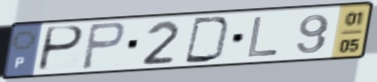2: (140, 19, 181, 67)
9: (294, 12, 332, 55)
D: (182, 15, 234, 65)
L: (245, 15, 281, 59)
P: (34, 24, 86, 73), (79, 20, 128, 71)
